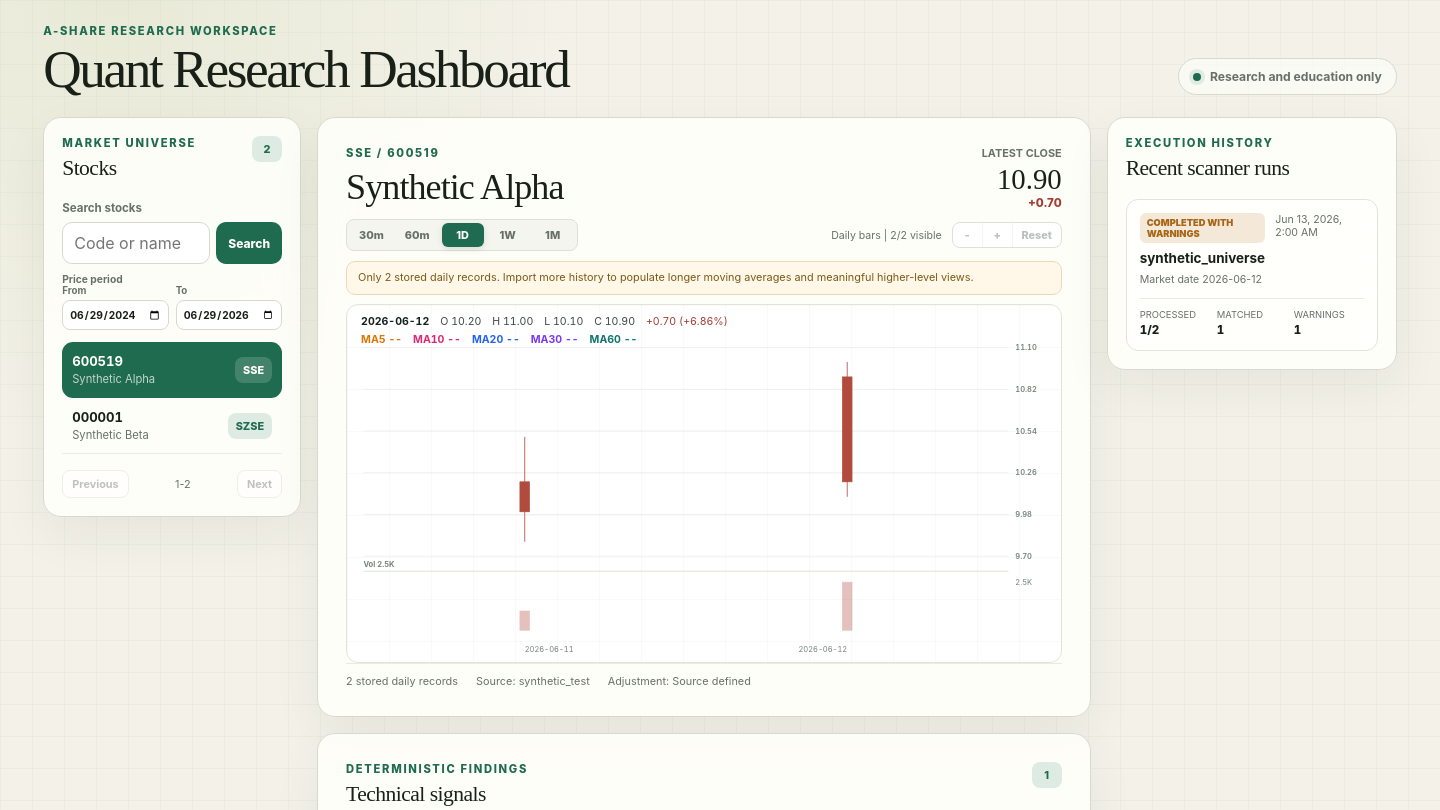
Scenario: App › requests cached intraday prices when switching to 30-minute bars
Expected: the picture named "Daily K-line chart with 2 price records" is shown, [347,305,1061,662]
What coordinates should you click on to do the following:
click the button "30m"
I would click on:
 (372, 235)
Its box is [350,223,393,247].
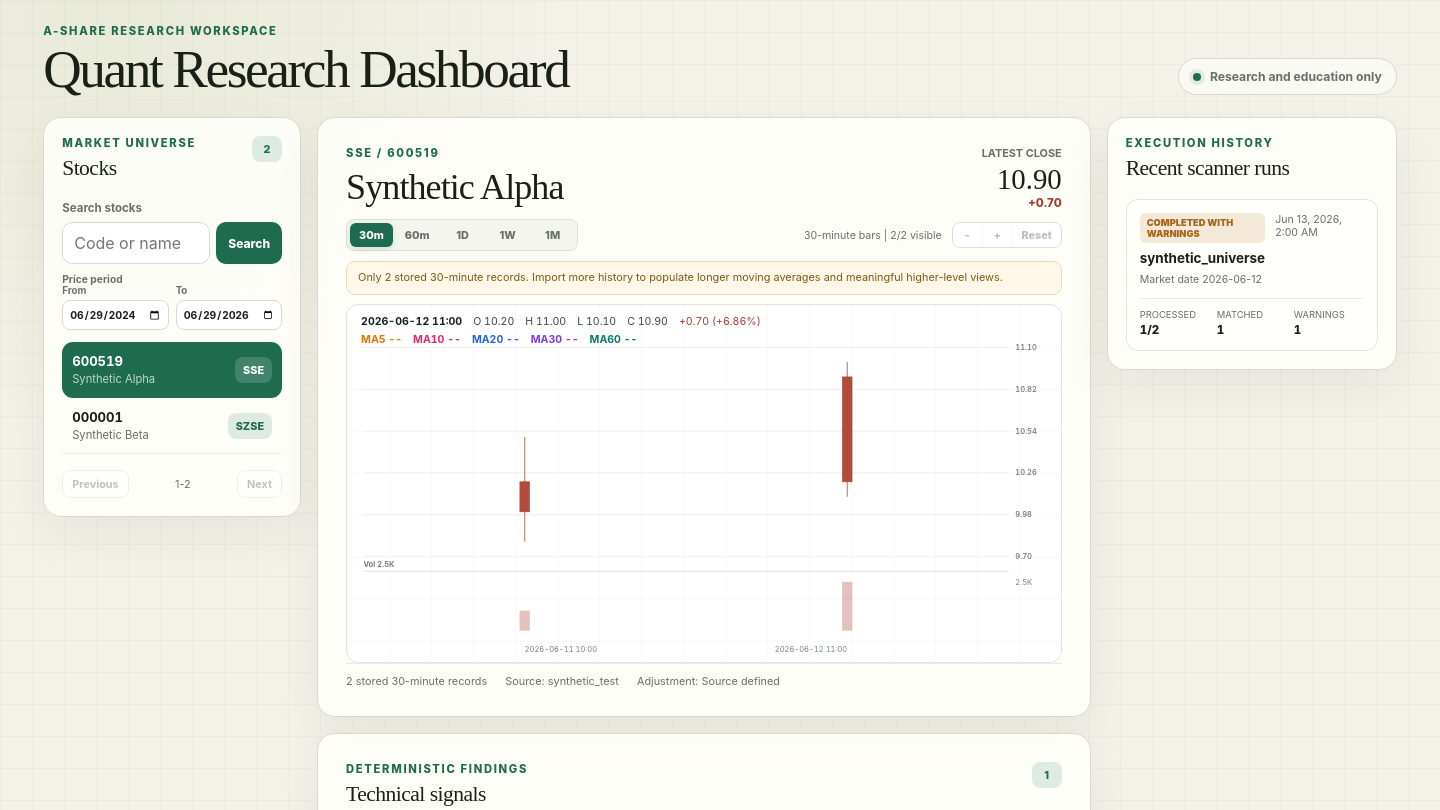
Expected: the picture named "30-minute K-line chart with 2 price records" is shown, [347,305,1061,662]
